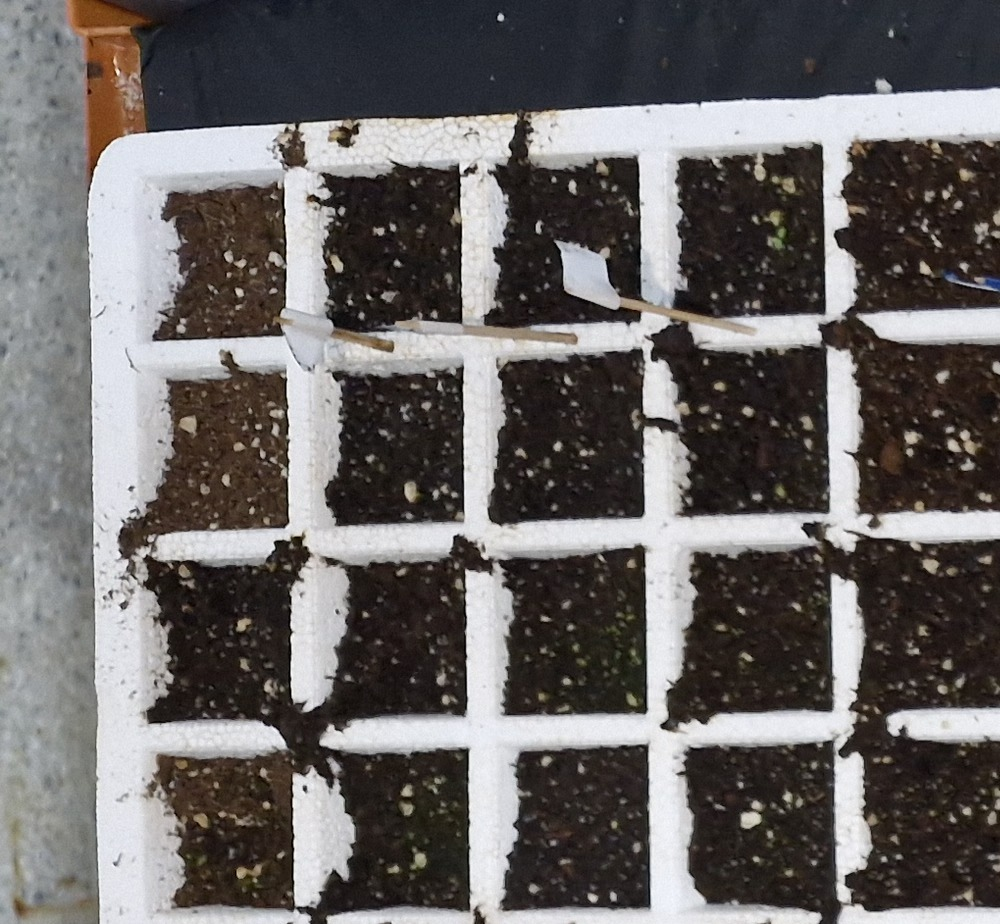Folha: (777, 228, 786, 238)
Germinacao: (774, 227, 786, 249)
